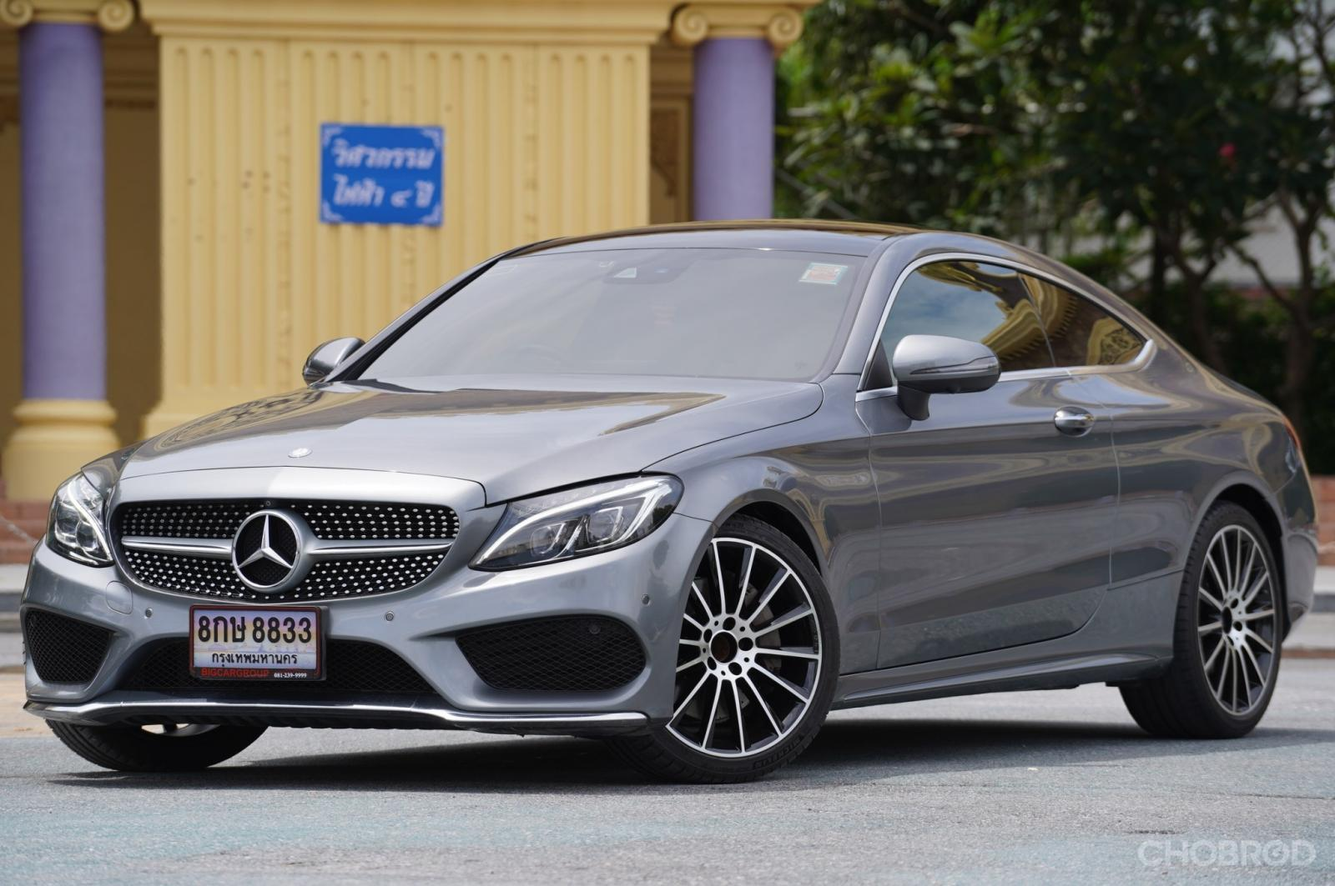license-plate: (188, 603, 327, 682)
